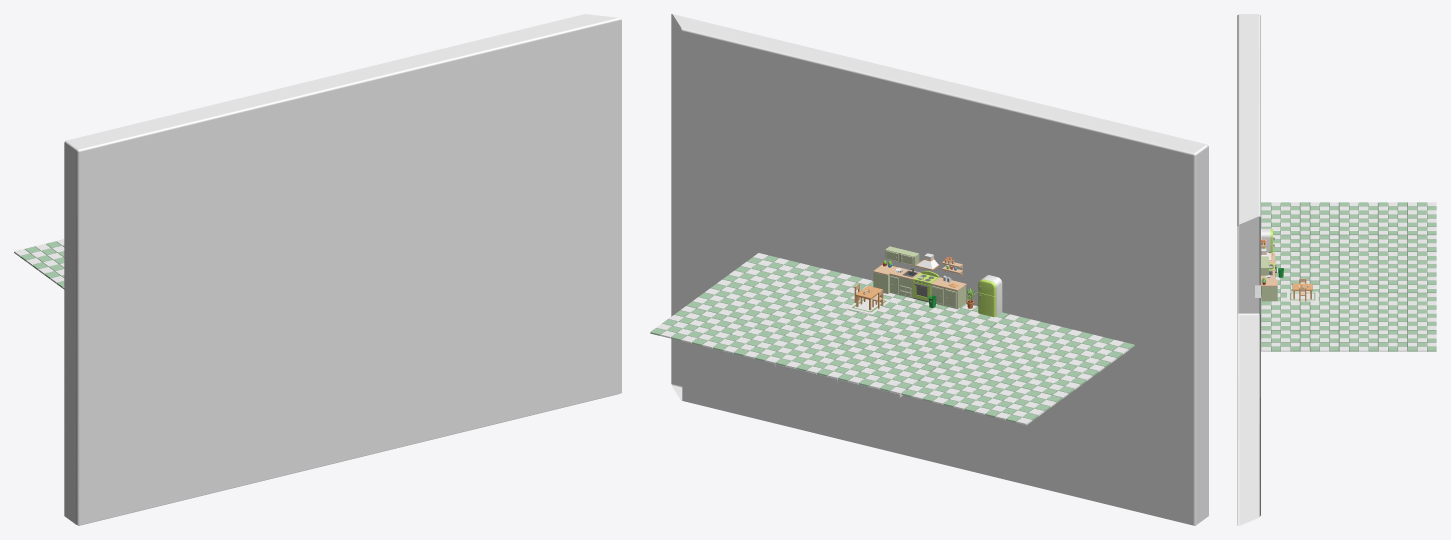
Rendered from Kitchen.glb.
3 renders of one model, left to right at view 1: azimuth 30°, elevation 25°; view 2: azimuth 150°, elevation 25°; view 3: azimuth 270°, elevation 25°, orthographic. The views are drawn at different scales.
Visible parts, largest first — view 1: Wall.001, Floor tile.016; view 2: Wall.001, Floor tile.016, Floor tile.006, Floor tile.007, Floor tile.013, Floor tile.019, Floor tile.010, Floor tile.015, Floor tile.014, Floor tile.002, Floor tile.003, Floor tile.011 (+10 smaller); view 3: Wall.001, Floor tile.012, Floor tile.003, Floor tile.011, Floor tile.013, Floor tile.007, Floor tile.009, Floor tile.015, Floor tile.002, Floor tile.018, Floor tile.010, Floor tile.008 (+10 smaller).
Boxes of the visible parts, x1,y1,x2,y2 form: Wall.001: (64, 14, 621, 525); Floor tile.016: (14, 239, 64, 279); Wall.001: (671, 14, 1208, 525); Floor tile.016: (964, 382, 1062, 425); Floor tile.006: (838, 351, 935, 394); Floor tile.007: (775, 336, 872, 379); Floor tile.013: (650, 306, 747, 348); Floor tile.019: (901, 367, 999, 409); Floor tile.010: (713, 321, 810, 363); Floor tile.015: (1000, 356, 1098, 398); Floor tile.014: (1037, 329, 1134, 371); Floor tile.002: (874, 325, 972, 367); Floor tile.003: (811, 310, 909, 351); Floor tile.011: (723, 253, 820, 294); Wall.001: (1237, 14, 1260, 525); Floor tile.012: (1319, 326, 1378, 351); Floor tile.003: (1319, 276, 1378, 301); Floor tile.011: (1261, 326, 1319, 351); Floor tile.013: (1378, 326, 1436, 351); Floor tile.007: (1378, 276, 1436, 301); Floor tile.009: (1319, 301, 1378, 326); Floor tile.015: (1319, 202, 1378, 227); Floor tile.002: (1319, 252, 1378, 276); Floor tile.018: (1319, 227, 1378, 251); Floor tile.010: (1378, 301, 1436, 326); Floor tile.008: (1261, 301, 1319, 326).
Bounding box in the file's own units: 61.98 × 40.99 × 24.6.
29 materials, 1 textured.
